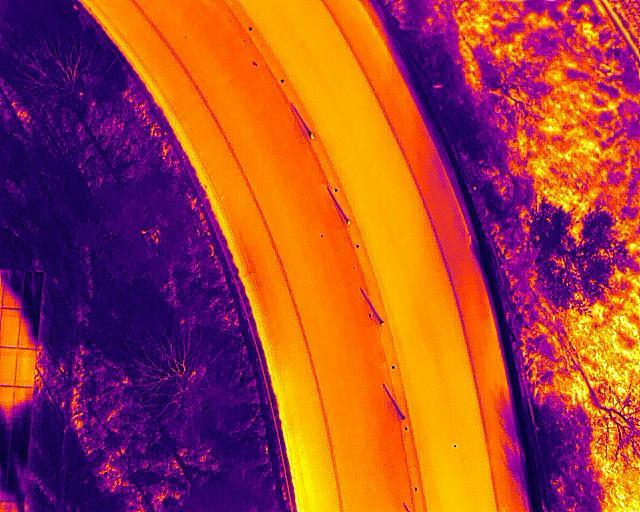No-Anomaly: (0, 308, 19, 349), (16, 349, 35, 388), (0, 346, 16, 388)
Shadowing: (18, 306, 40, 348), (1, 267, 22, 310), (20, 269, 41, 307)
